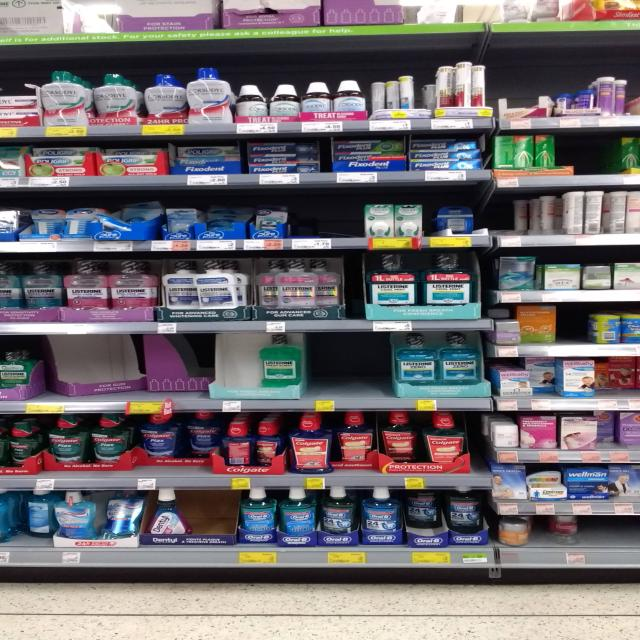void: (189, 335, 243, 410), (132, 336, 184, 412), (81, 334, 128, 412), (34, 334, 78, 413), (516, 41, 554, 130), (194, 487, 236, 565), (314, 328, 350, 411), (588, 514, 640, 567), (561, 130, 611, 185), (356, 332, 391, 409), (330, 254, 365, 330), (488, 42, 514, 131), (477, 186, 511, 247), (334, 198, 363, 249), (563, 305, 591, 356), (286, 190, 308, 250), (308, 199, 333, 249)
